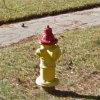Hydrant: (28, 19, 66, 93)
